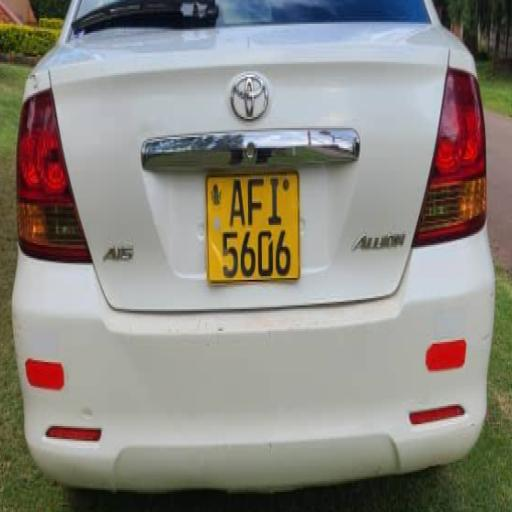number-plates: (209, 174, 294, 282)
